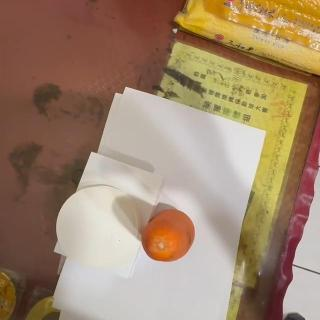carrot: (142, 209, 196, 263)
